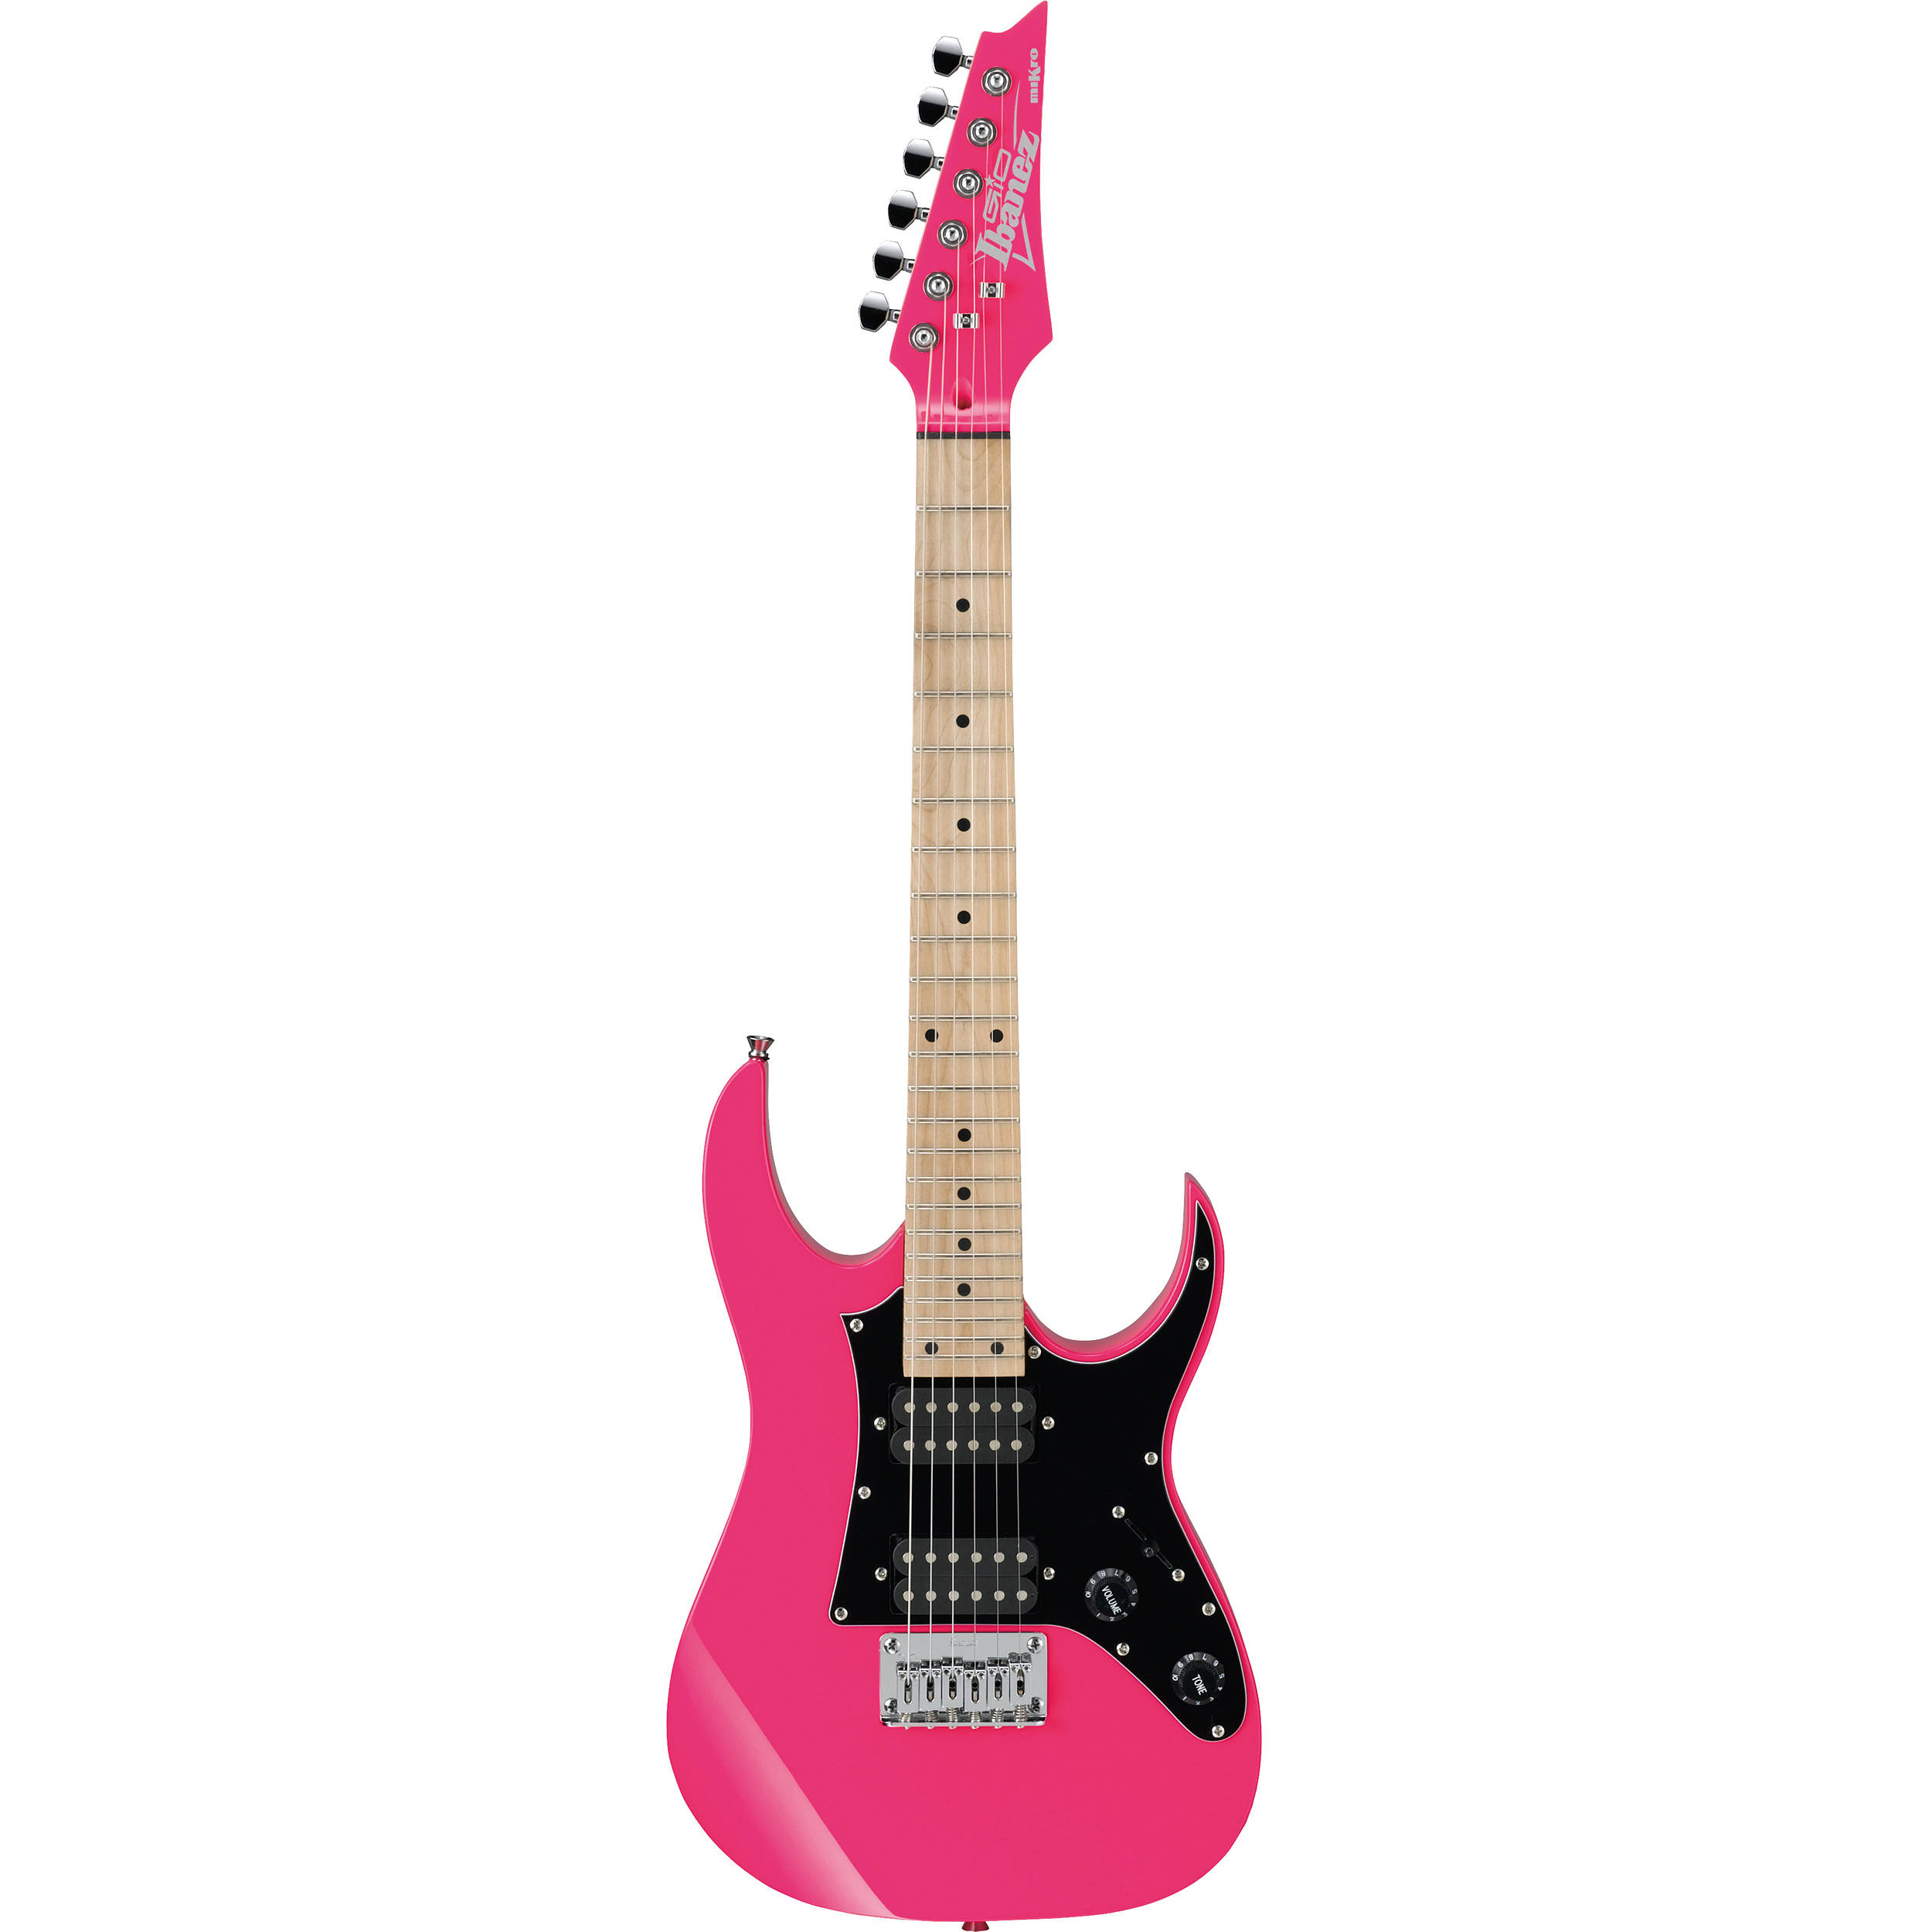ElectricGuitar: (663, 16, 1322, 1932)
